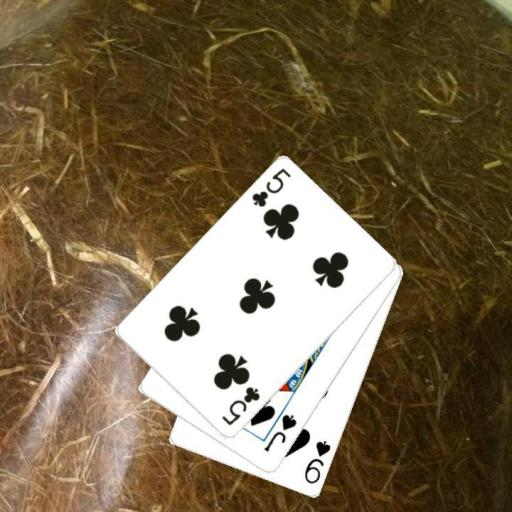5C: (218, 383, 262, 428), (248, 165, 292, 209)
9S: (301, 437, 333, 486)
JS: (261, 411, 299, 454)
